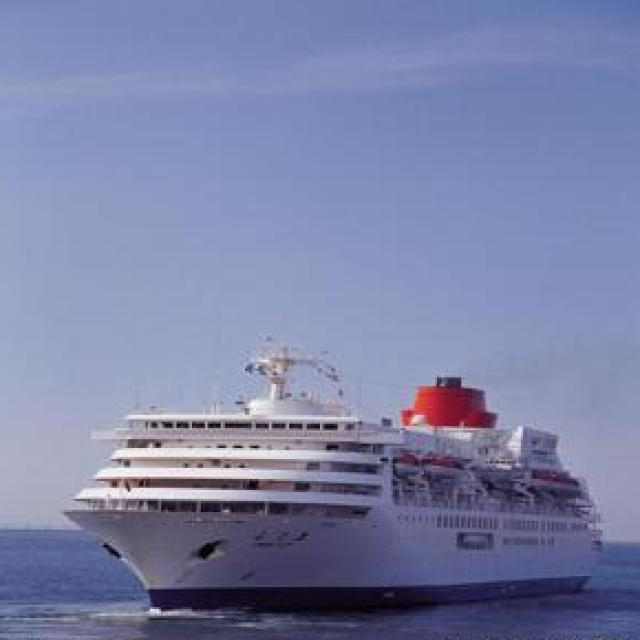passenger ship: (67, 337, 611, 609)
